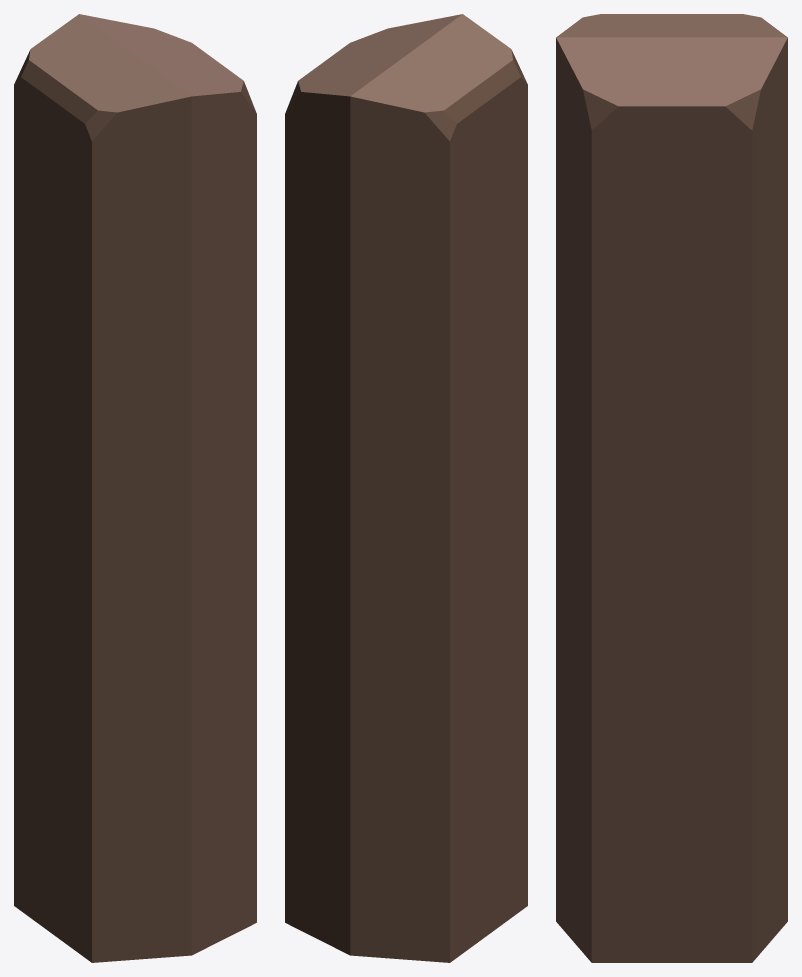
The model's file is stone_pillar_06.glb.
The picture shows the model from 3 angles, left to right: view 1: azimuth 30°, elevation 25°; view 2: azimuth 150°, elevation 25°; view 3: azimuth 270°, elevation 25°; orthographic projection. The views are drawn at different scales.
Parts seen in each view (by area): view 1: Plane.001; view 2: Plane.001; view 3: Plane.001.
Part boxes in pixels (x1,y1,x2,y2): Plane.001: (14,14,256,962); Plane.001: (285,14,527,962); Plane.001: (556,14,787,962).
Size of the model in its own units: 10 by 49.77 by 11.83.
Materials: 1 (1 with a texture image).
